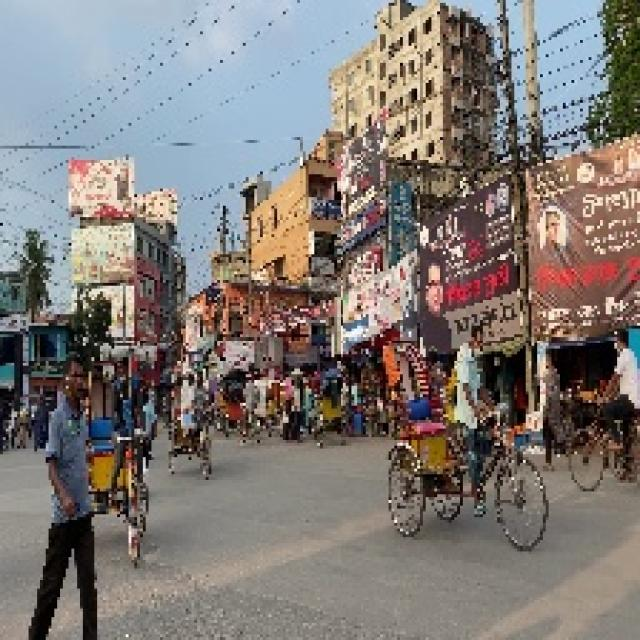rickshaw: (385, 329, 548, 546), (89, 351, 152, 562), (174, 370, 212, 487), (312, 359, 346, 448), (220, 375, 246, 439)
